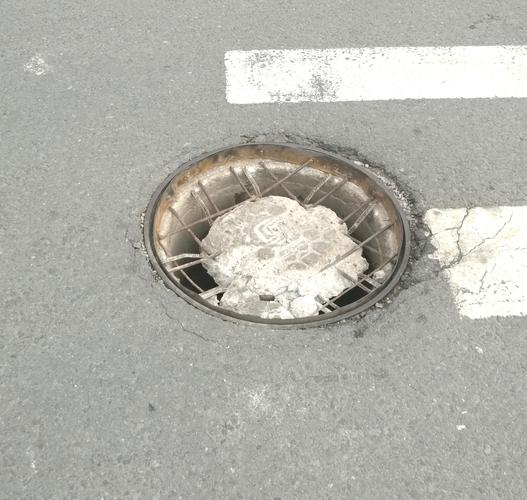broke: (130, 120, 434, 335)
